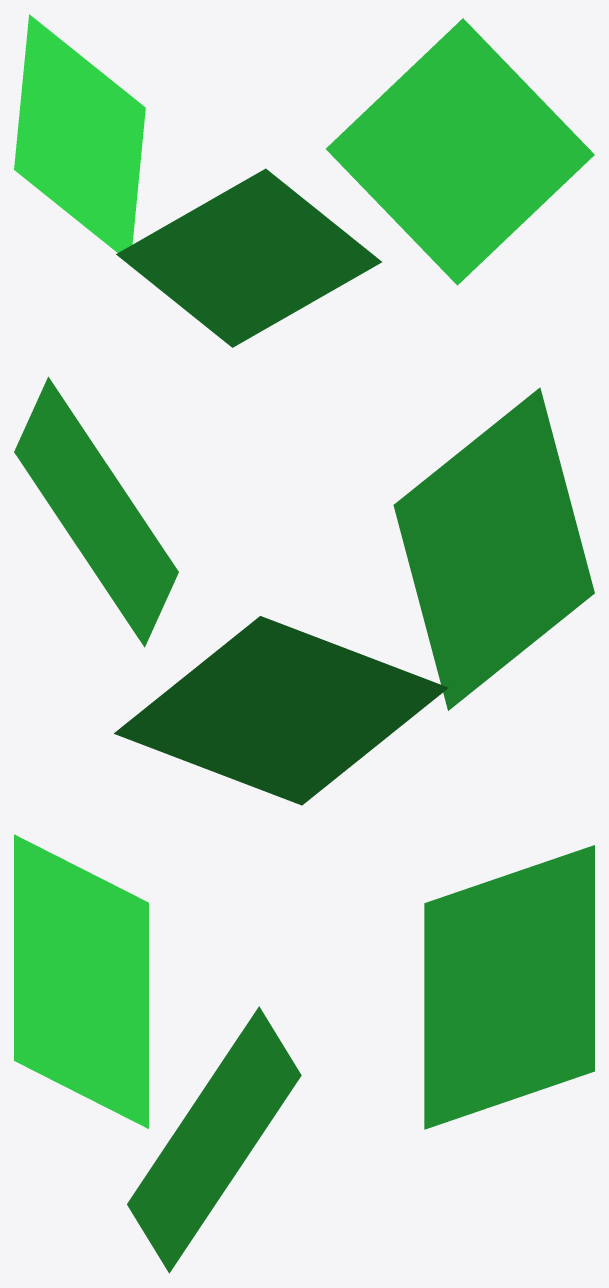
Rendered from carrot_seeded.glb.
3 renders of one model, top to bottom at view 1: azimuth 30°, elevation 25°; view 2: azimuth 150°, elevation 25°; view 3: azimuth 270°, elevation 25°, orthographic. The views are drawn at different scales.
Visible parts, largest first — view 1: Plane.002; view 2: Plane.002; view 3: Plane.002.
Part boxes in pixels (box(x1,y1,x2,y2)): Plane.002: box(14, 14, 594, 347); Plane.002: box(14, 376, 594, 805); Plane.002: box(14, 834, 594, 1273).
Size of the model in its own units: 0.855 by 0.4024 by 0.7228.
